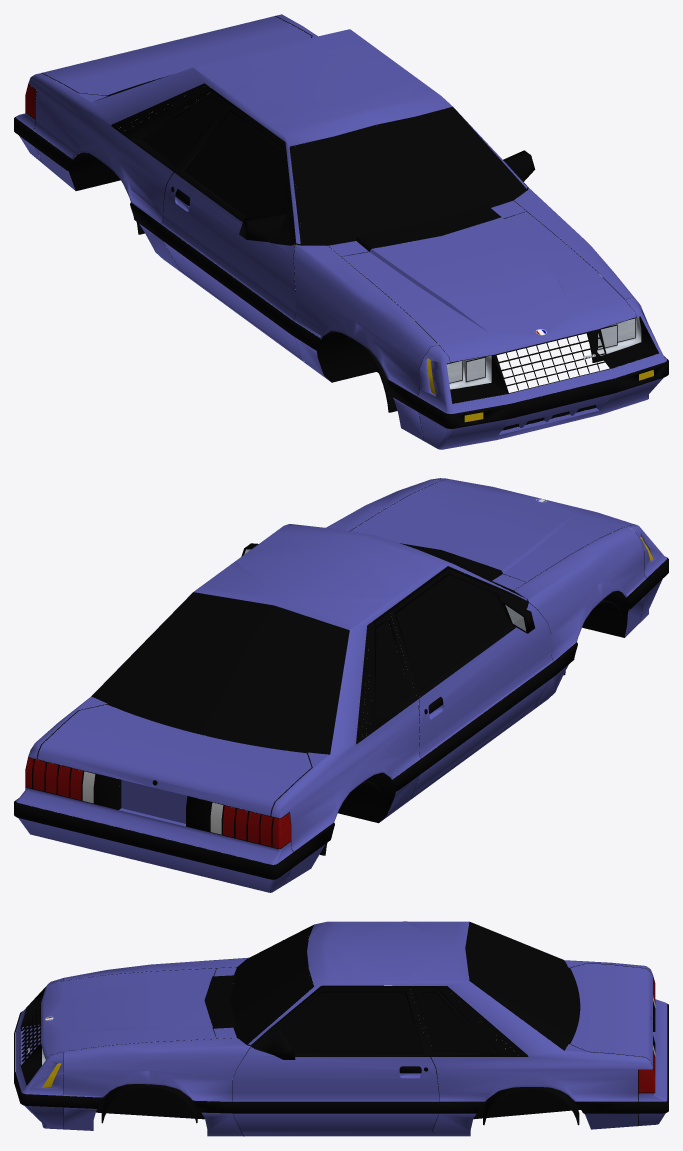
3 renders of one model, top to bottom at view 1: azimuth 30°, elevation 25°; view 2: azimuth 150°, elevation 25°; view 3: azimuth 270°, elevation 25°, orthographic. The views are drawn at different scales.
Visible parts, largest first — view 1: material_9_16, material_0_16, material_2_16, material_9_24, material_1_1_0; view 2: material_9_16, material_0_16, material_2_16, material_8_16, material_7_16; view 3: material_9_16, material_0_16, material_2_16, material_9_24, material_8_16.
Part boxes in pixels (x1,y1,x2,y2): material_9_16: (16,14,666,440); material_0_16: (25,15,668,440); material_2_16: (14,83,658,412); material_9_24: (419,378,663,449); material_1_1_0: (446,317,641,389); material_9_16: (16,478,666,892); material_0_16: (26,480,668,877); material_2_16: (14,543,648,879); material_8_16: (25,757,290,848); material_7_16: (82,771,223,834); material_9_16: (15,921,667,1136); material_0_16: (14,921,655,1136); material_2_16: (20,925,668,1125); material_9_24: (21,1024,63,1129); material_8_16: (638,975,655,1092).
Size of the model in its own units: 1.81 by 1.15 by 4.56.
13 materials, 1 textured.
